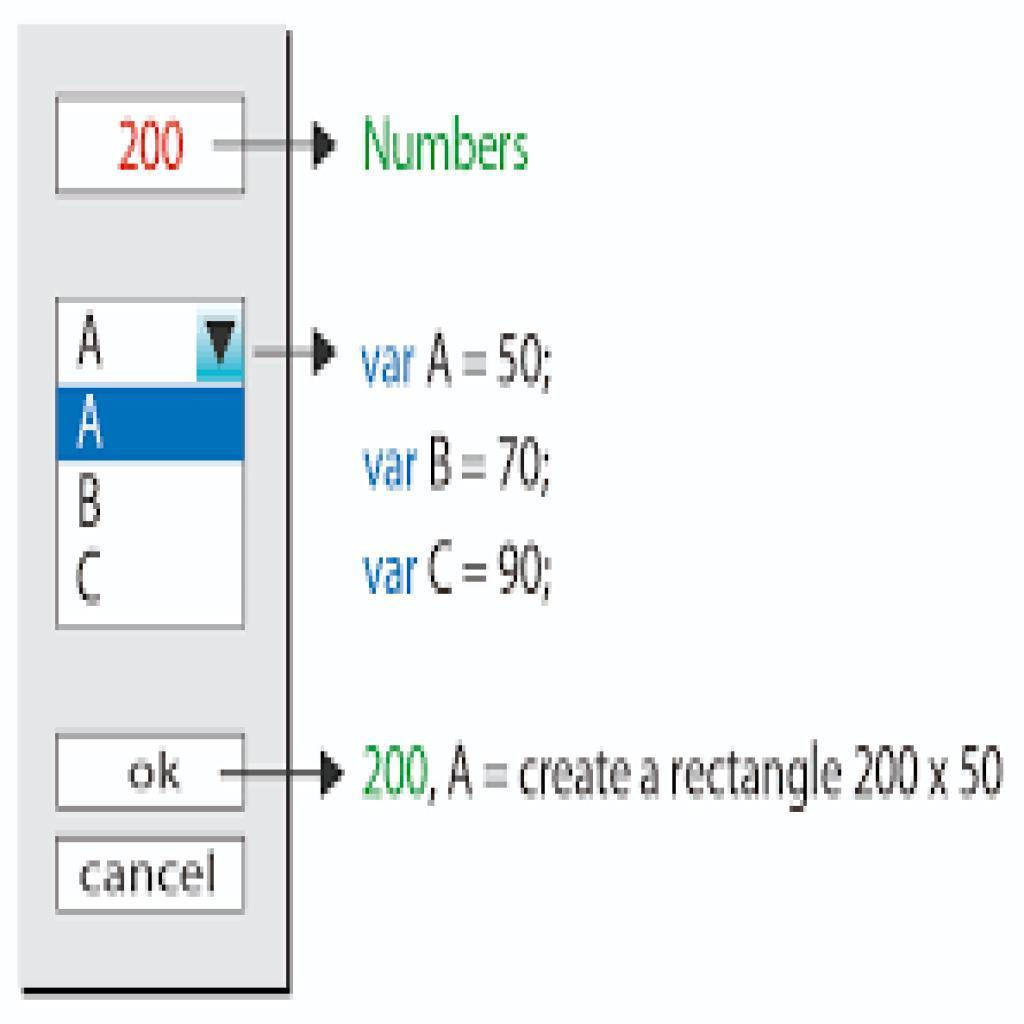button: (54, 834, 247, 916), (56, 733, 247, 813)
dropdown: (57, 298, 246, 390)
input: (56, 92, 245, 194)
